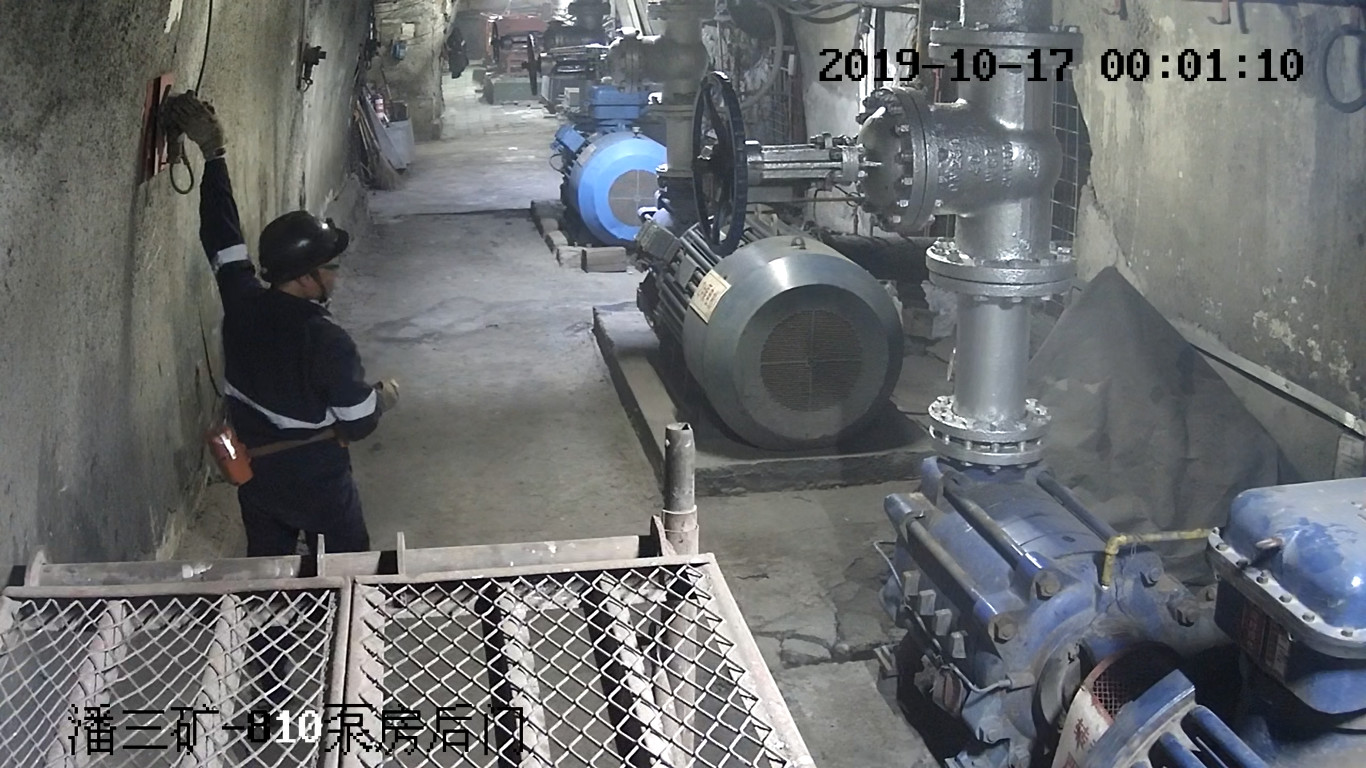helmet: (258, 211, 350, 280)
